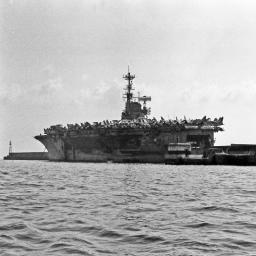Portanaves: (35, 65, 227, 166)
